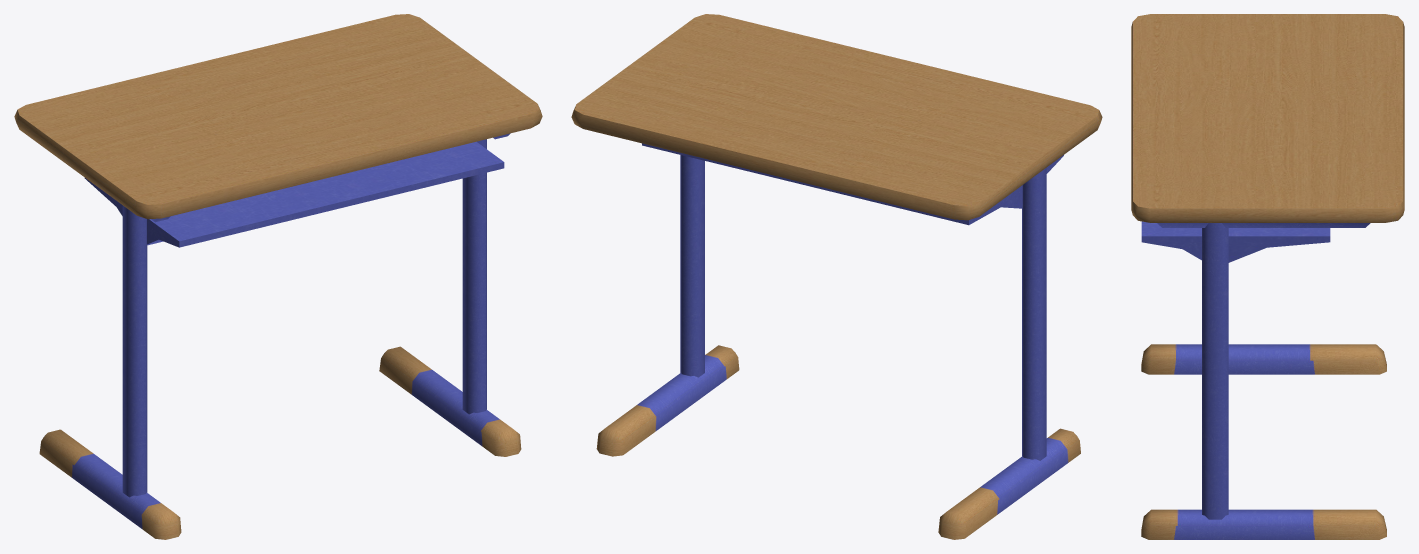
File: MOD_Pupitre.fbx
3 views of the same model, side by side, from view 1: azimuth 30°, elevation 25°; view 2: azimuth 150°, elevation 25°; view 3: azimuth 270°, elevation 25° (orthographic).
Parts seen in each view (by area): view 1: MOD_Pupitre_Baked_v2; view 2: MOD_Pupitre_Baked_v2; view 3: MOD_Pupitre_Baked_v2.
Boxes of the visible parts, <box> form: MOD_Pupitre_Baked_v2: <box>14,14,542,539</box>; MOD_Pupitre_Baked_v2: <box>571,14,1102,539</box>; MOD_Pupitre_Baked_v2: <box>1131,14,1404,539</box>.
Size of the model in its own units: 102 by 82.18 by 60.01.
